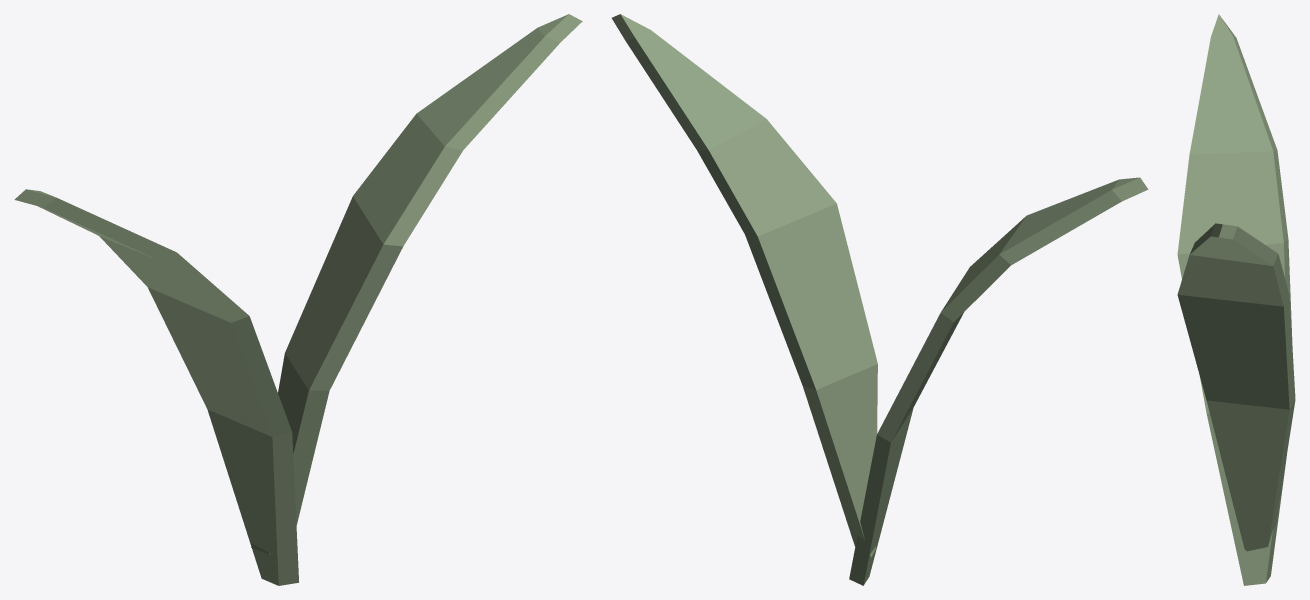
Rendered from flower_1.glb.
3 views of the same model, side by side, from view 1: azimuth 30°, elevation 25°; view 2: azimuth 150°, elevation 25°; view 3: azimuth 270°, elevation 25° (orthographic). The views are drawn at different scales.
Parts seen in each view (by area): view 1: Flower_1_Plane.021; view 2: Flower_1_Plane.021; view 3: Flower_1_Plane.021.
Boxes of the visible parts, left/top/right/bottom form: Flower_1_Plane.021: left=14, top=14, right=582, bottom=585; Flower_1_Plane.021: left=611, top=14, right=1148, bottom=585; Flower_1_Plane.021: left=1177, top=14, right=1295, bottom=585.
Size of the model in its own units: 0.1267 by 0.1099 by 0.0245.
